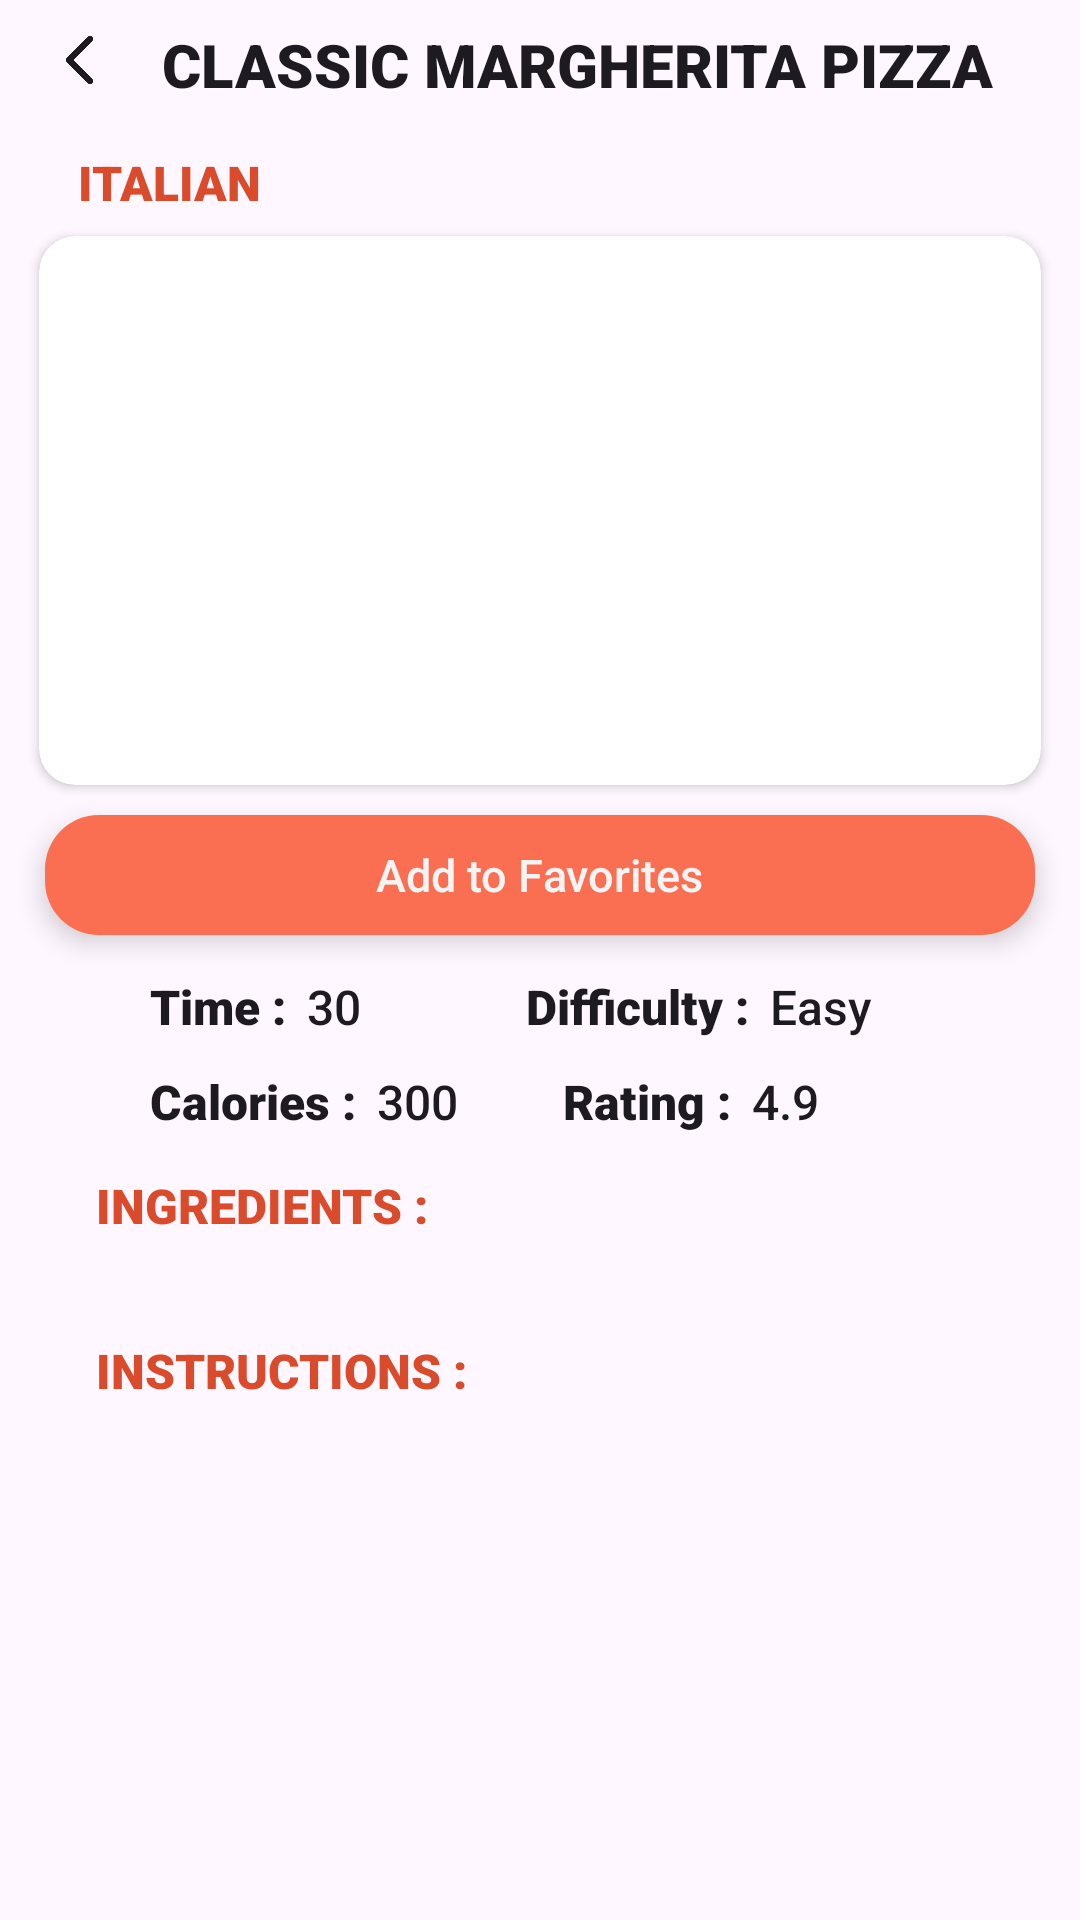

Screen size 1080x1920. Icon name, then its box in pixels as BBox(x1, y1, x2, y2):
left arrows: BBox(66, 36, 93, 84)
